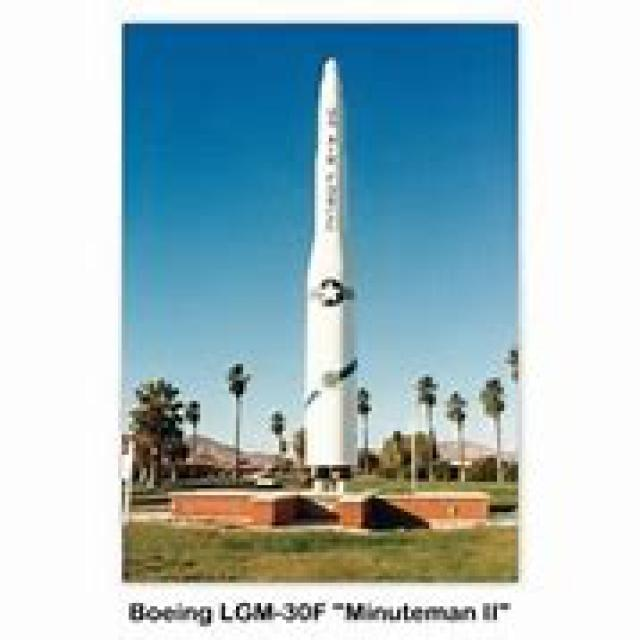missile: (296, 40, 381, 483)
